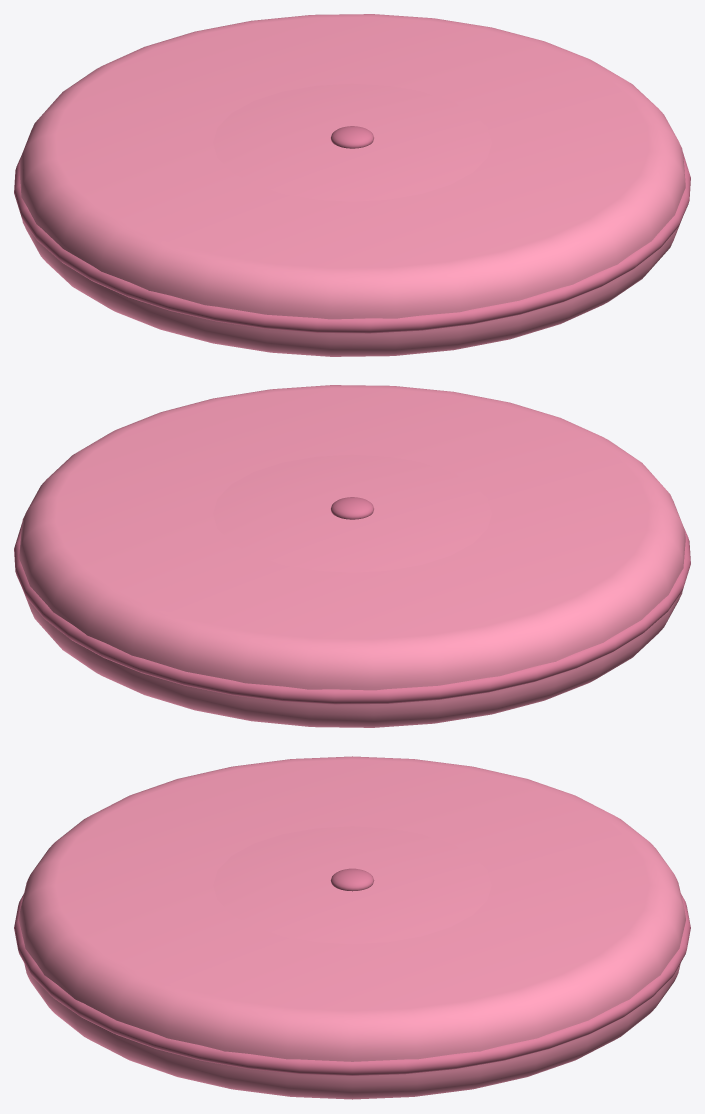
The model's file is cat_cushion.glb.
3 views of the same model, one above another, from view 1: azimuth 30°, elevation 25°; view 2: azimuth 150°, elevation 25°; view 3: azimuth 270°, elevation 25° (orthographic).
Parts seen in each view (by area): view 1: cat_cushion_body, cat_cushion_dome, cat_cushion_piping, cat_cushion_button; view 2: cat_cushion_body, cat_cushion_dome, cat_cushion_piping, cat_cushion_button; view 3: cat_cushion_body, cat_cushion_dome, cat_cushion_piping, cat_cushion_button.
Part boxes in pixels (box(x1,y1,x2,y2)): cat_cushion_body: box(19, 14, 685, 356); cat_cushion_dome: box(213, 83, 491, 201); cat_cushion_piping: box(14, 153, 690, 333); cat_cushion_button: box(331, 126, 373, 148); cat_cushion_body: box(19, 385, 685, 727); cat_cushion_dome: box(213, 454, 491, 572); cat_cushion_piping: box(14, 524, 690, 704); cat_cushion_button: box(331, 497, 373, 519); cat_cushion_body: box(19, 756, 685, 1099); cat_cushion_dome: box(213, 826, 491, 944); cat_cushion_piping: box(14, 894, 690, 1075); cat_cushion_button: box(330, 868, 374, 891).
Bounding box in the file's own units: 0.934 × 0.149 × 0.934.
